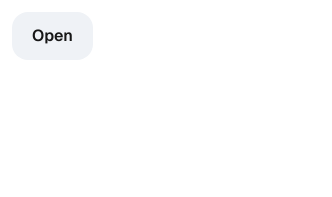
Test: Dropdown (rule M4: a list of options is a sheet on a phone) › on a desktop it is a menu over the page, not a dialog
Click the button "Open": click(52, 36) [12,12,93,60]
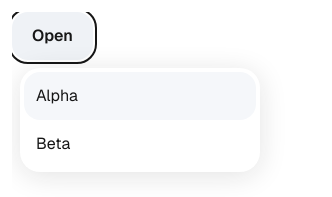
Result: the list named "Sort" is shown at [20,68,260,172]
